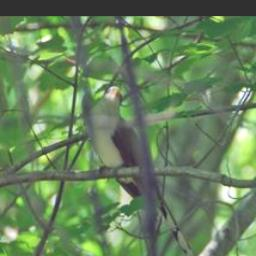Cuckoo: (85, 83, 203, 256)
